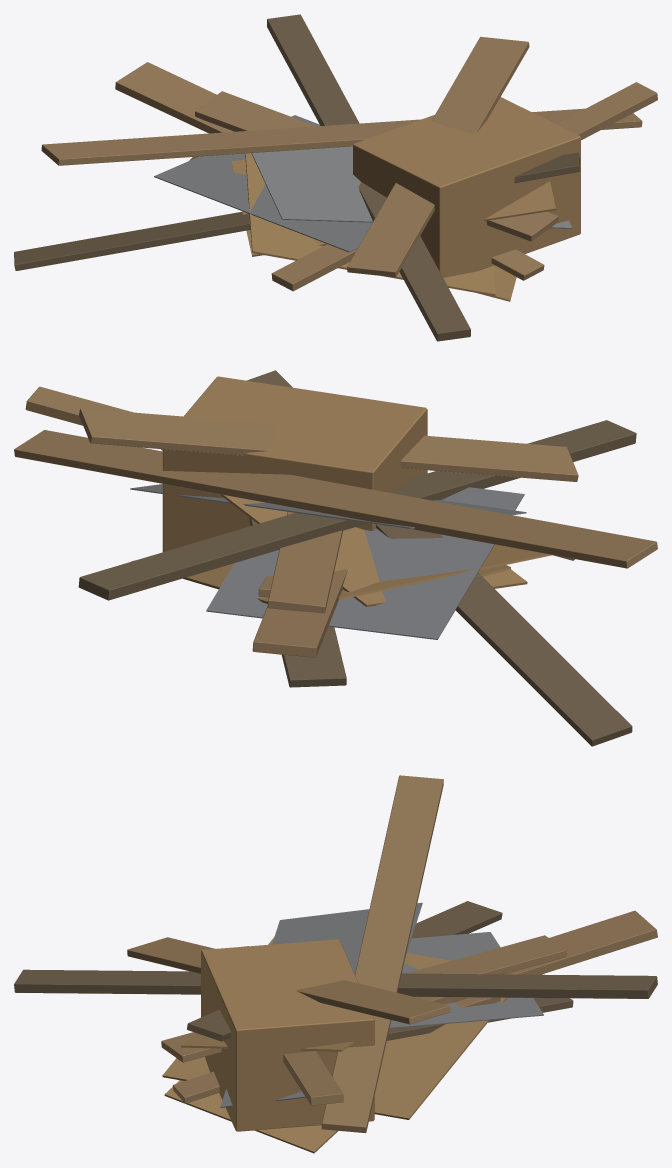
Rendered from debris_a.glb.
3 views of the same model, one above another, from view 1: azimuth 30°, elevation 25°; view 2: azimuth 150°, elevation 25°; view 3: azimuth 270°, elevation 25° (orthographic). The views are drawn at different scales.
Visible parts, largest first — view 1: kasten, brett7, brett8, brett2, blech1, brett0, blech0, brett6, brett3, karton0, brett4, karton2 (+2 smaller); view 2: kasten, brett8, blech0, brett7, brett2, brett0, brett3, karton2, brett4, karton0, brett1, brett6 (+1 smaller); view 3: kasten, brett8, brett2, karton0, brett7, blech0, brett3, brett4, blech1, brett0, brett6, karton1 (+3 smaller).
Boxes of the visible parts, x1=… form: kasten: x1=353, y1=97, x2=580, y2=277; brett7: x1=347, y1=36, x2=529, y2=277; brett8: x1=41, y1=108, x2=642, y2=165; brett2: x1=267, y1=14, x2=470, y2=341; blech1: x1=251, y1=146, x2=572, y2=228; brett0: x1=14, y1=152, x2=580, y2=270; blech0: x1=154, y1=115, x2=372, y2=252; brett6: x1=271, y1=82, x2=657, y2=291; brett3: x1=195, y1=91, x2=558, y2=241; karton0: x1=245, y1=153, x2=495, y2=295; brett4: x1=115, y1=62, x2=233, y2=133; karton2: x1=231, y1=159, x2=555, y2=256; kasten: x1=162, y1=376, x2=427, y2=551; brett8: x1=14, y1=430, x2=657, y2=568; blech0: x1=206, y1=487, x2=524, y2=639; brett7: x1=79, y1=408, x2=578, y2=481; brett2: x1=78, y1=420, x2=636, y2=600; brett0: x1=247, y1=370, x2=632, y2=746; brett3: x1=267, y1=511, x2=342, y2=613; karton2: x1=161, y1=449, x2=527, y2=606; brett4: x1=252, y1=568, x2=347, y2=657; karton0: x1=131, y1=544, x2=552, y2=603; brett1: x1=249, y1=518, x2=346, y2=687; brett6: x1=25, y1=386, x2=574, y2=560; kasten: x1=201, y1=939, x2=374, y2=1131; brett8: x1=321, y1=775, x2=443, y2=1133; brett2: x1=14, y1=969, x2=657, y2=998; karton0: x1=162, y1=937, x2=507, y2=1119; brett7: x1=127, y1=937, x2=450, y2=1024; blech0: x1=389, y1=932, x2=543, y2=1028; brett3: x1=161, y1=935, x2=566, y2=1062; brett4: x1=420, y1=910, x2=657, y2=1003; blech1: x1=220, y1=902, x2=422, y2=1107; brett0: x1=187, y1=901, x2=502, y2=1041; brett6: x1=241, y1=946, x2=343, y2=1105; karton1: x1=164, y1=1080, x2=337, y2=1153.
Bounding box in the file's own units: 1.94 × 0.505 × 1.82.
